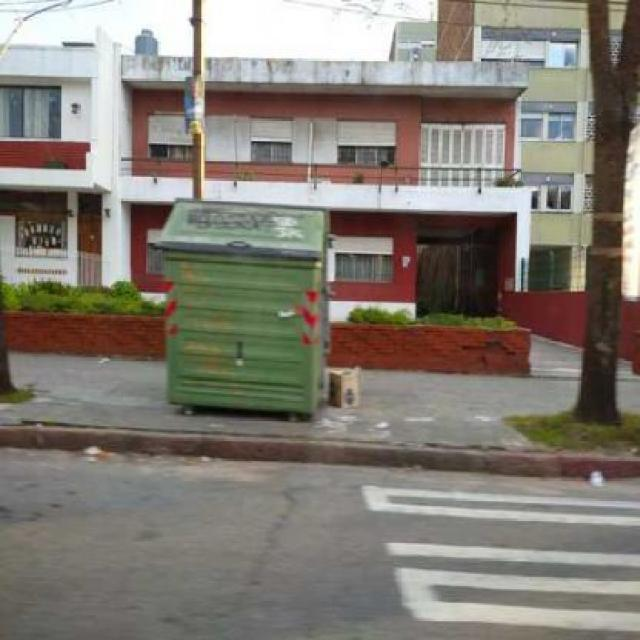garbage: (318, 357, 374, 448), (48, 435, 142, 477), (580, 472, 624, 496)
